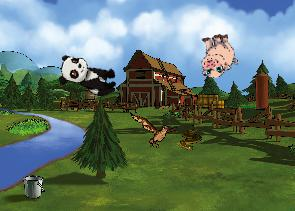eagle: (130, 112, 177, 148)
panda: (55, 52, 121, 99)
pig: (194, 31, 239, 79)
